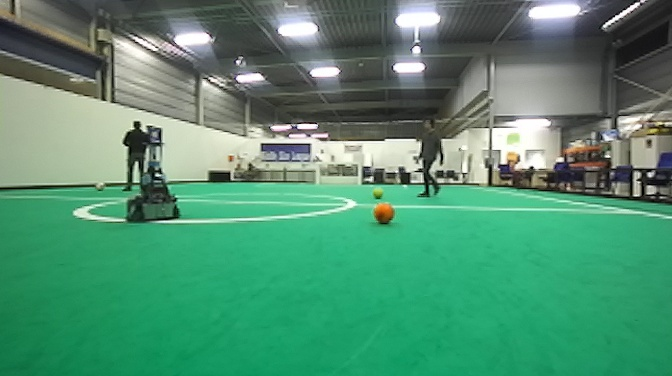ball: (371, 200, 396, 228), (370, 185, 386, 201), (91, 180, 106, 194)
goal: (312, 160, 364, 188)
goalpost: (312, 159, 322, 187), (355, 159, 363, 188)
human: (408, 116, 447, 200), (118, 117, 153, 193)
robot: (123, 139, 183, 225)
